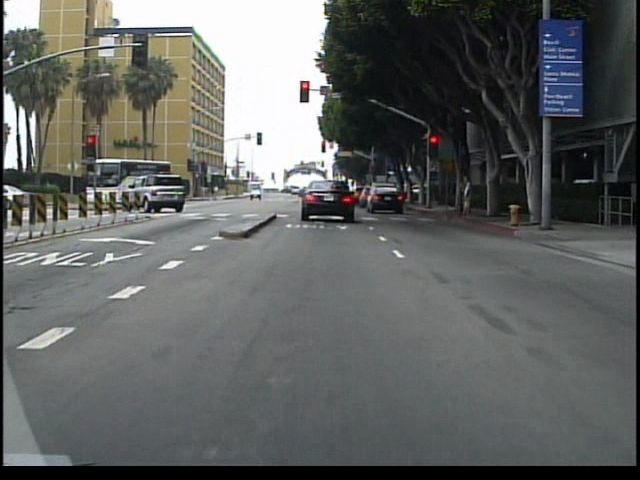person: (460, 169, 479, 218)
